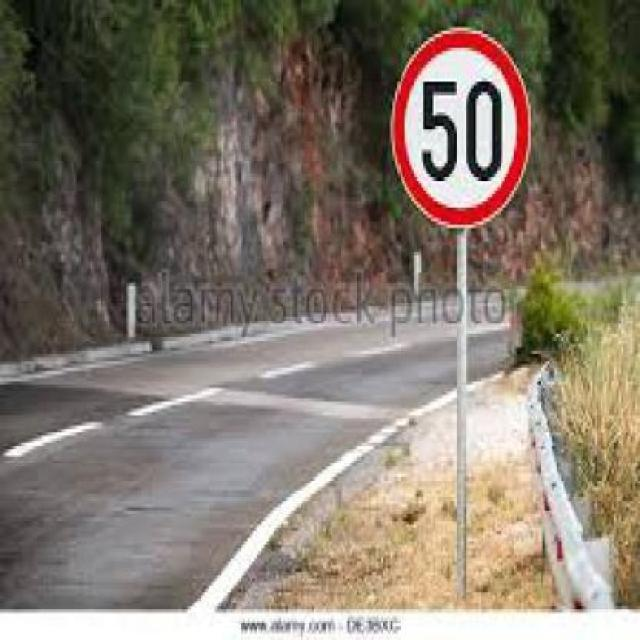forb_speed_over_50: (391, 30, 528, 225)
